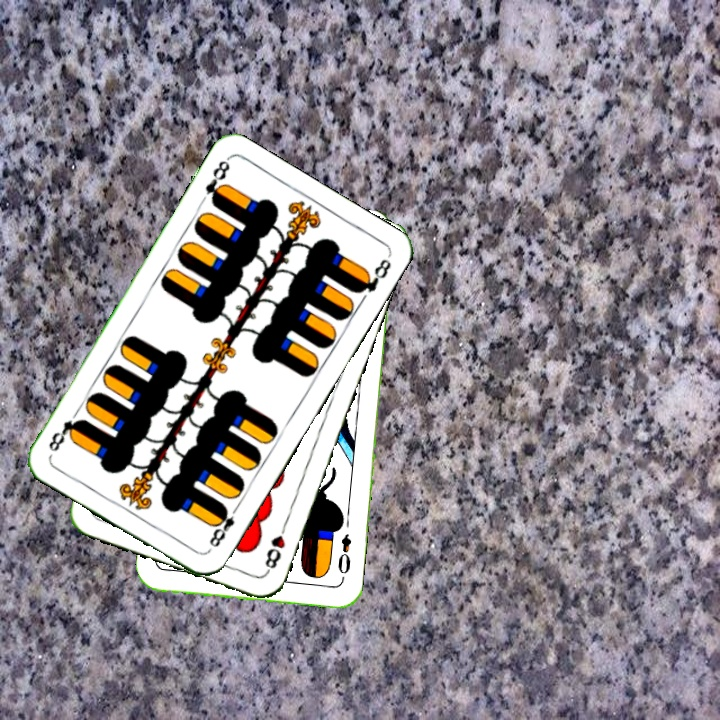E8: (204, 500, 242, 553), (201, 155, 233, 208)
EO: (333, 530, 354, 583)
H8: (261, 518, 290, 575)
